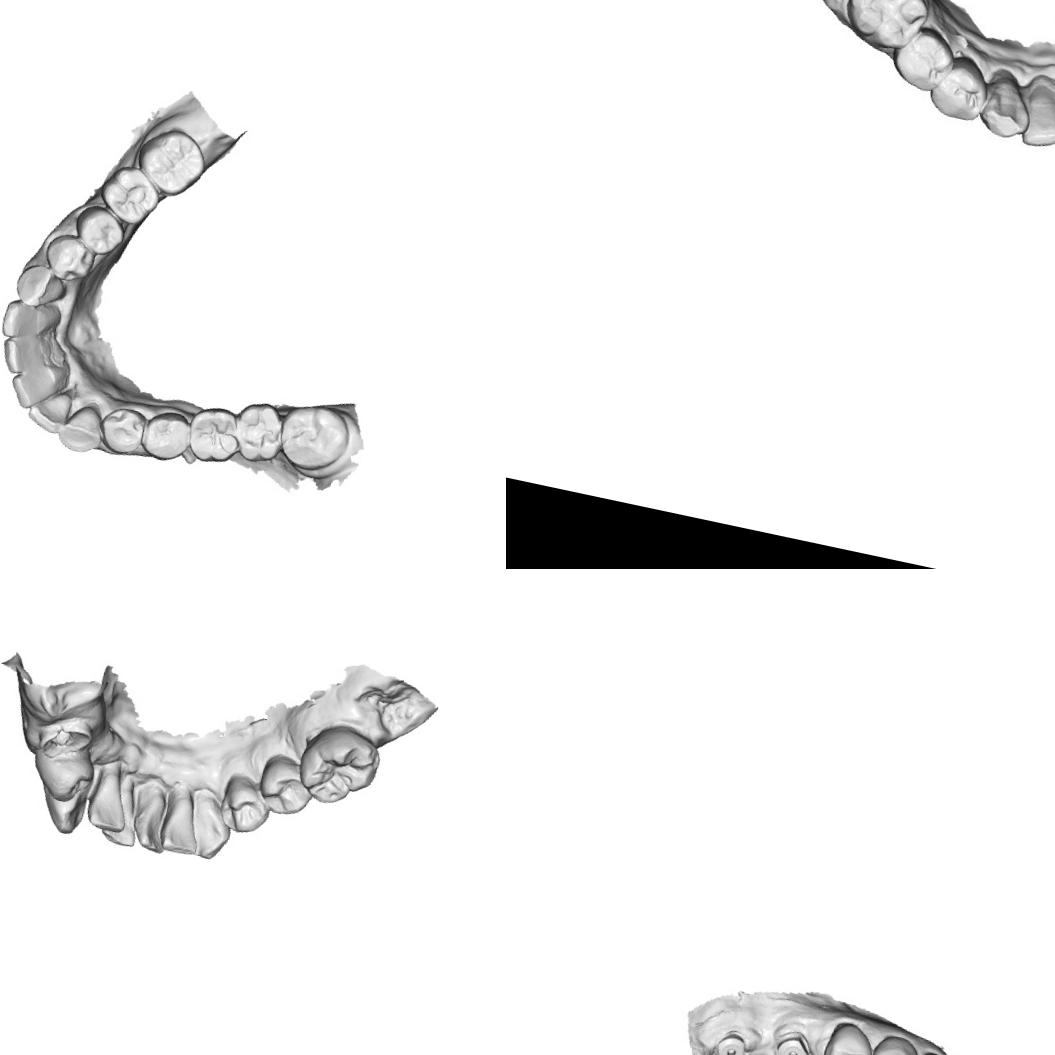canine: (974, 70, 1042, 148), (53, 398, 110, 460), (10, 258, 72, 314), (35, 789, 89, 837), (190, 814, 234, 864)
implant: (770, 1028, 815, 1055), (711, 1029, 750, 1055)
incisor: (81, 756, 140, 835), (126, 771, 180, 854), (156, 777, 210, 857), (0, 293, 64, 348), (1014, 72, 1055, 154), (5, 361, 65, 416), (24, 384, 76, 438), (0, 332, 55, 382), (98, 804, 142, 850)
molar: (292, 717, 387, 814), (129, 121, 214, 204), (273, 396, 354, 478), (838, 0, 939, 55), (92, 159, 166, 232), (229, 396, 291, 469), (184, 399, 246, 468)
premolar: (24, 729, 102, 809), (887, 20, 959, 100), (927, 49, 995, 125), (253, 750, 320, 820), (214, 768, 278, 839), (67, 198, 132, 262), (136, 404, 196, 466), (37, 228, 100, 287), (96, 400, 152, 460), (816, 1018, 880, 1055), (862, 1029, 926, 1055)
